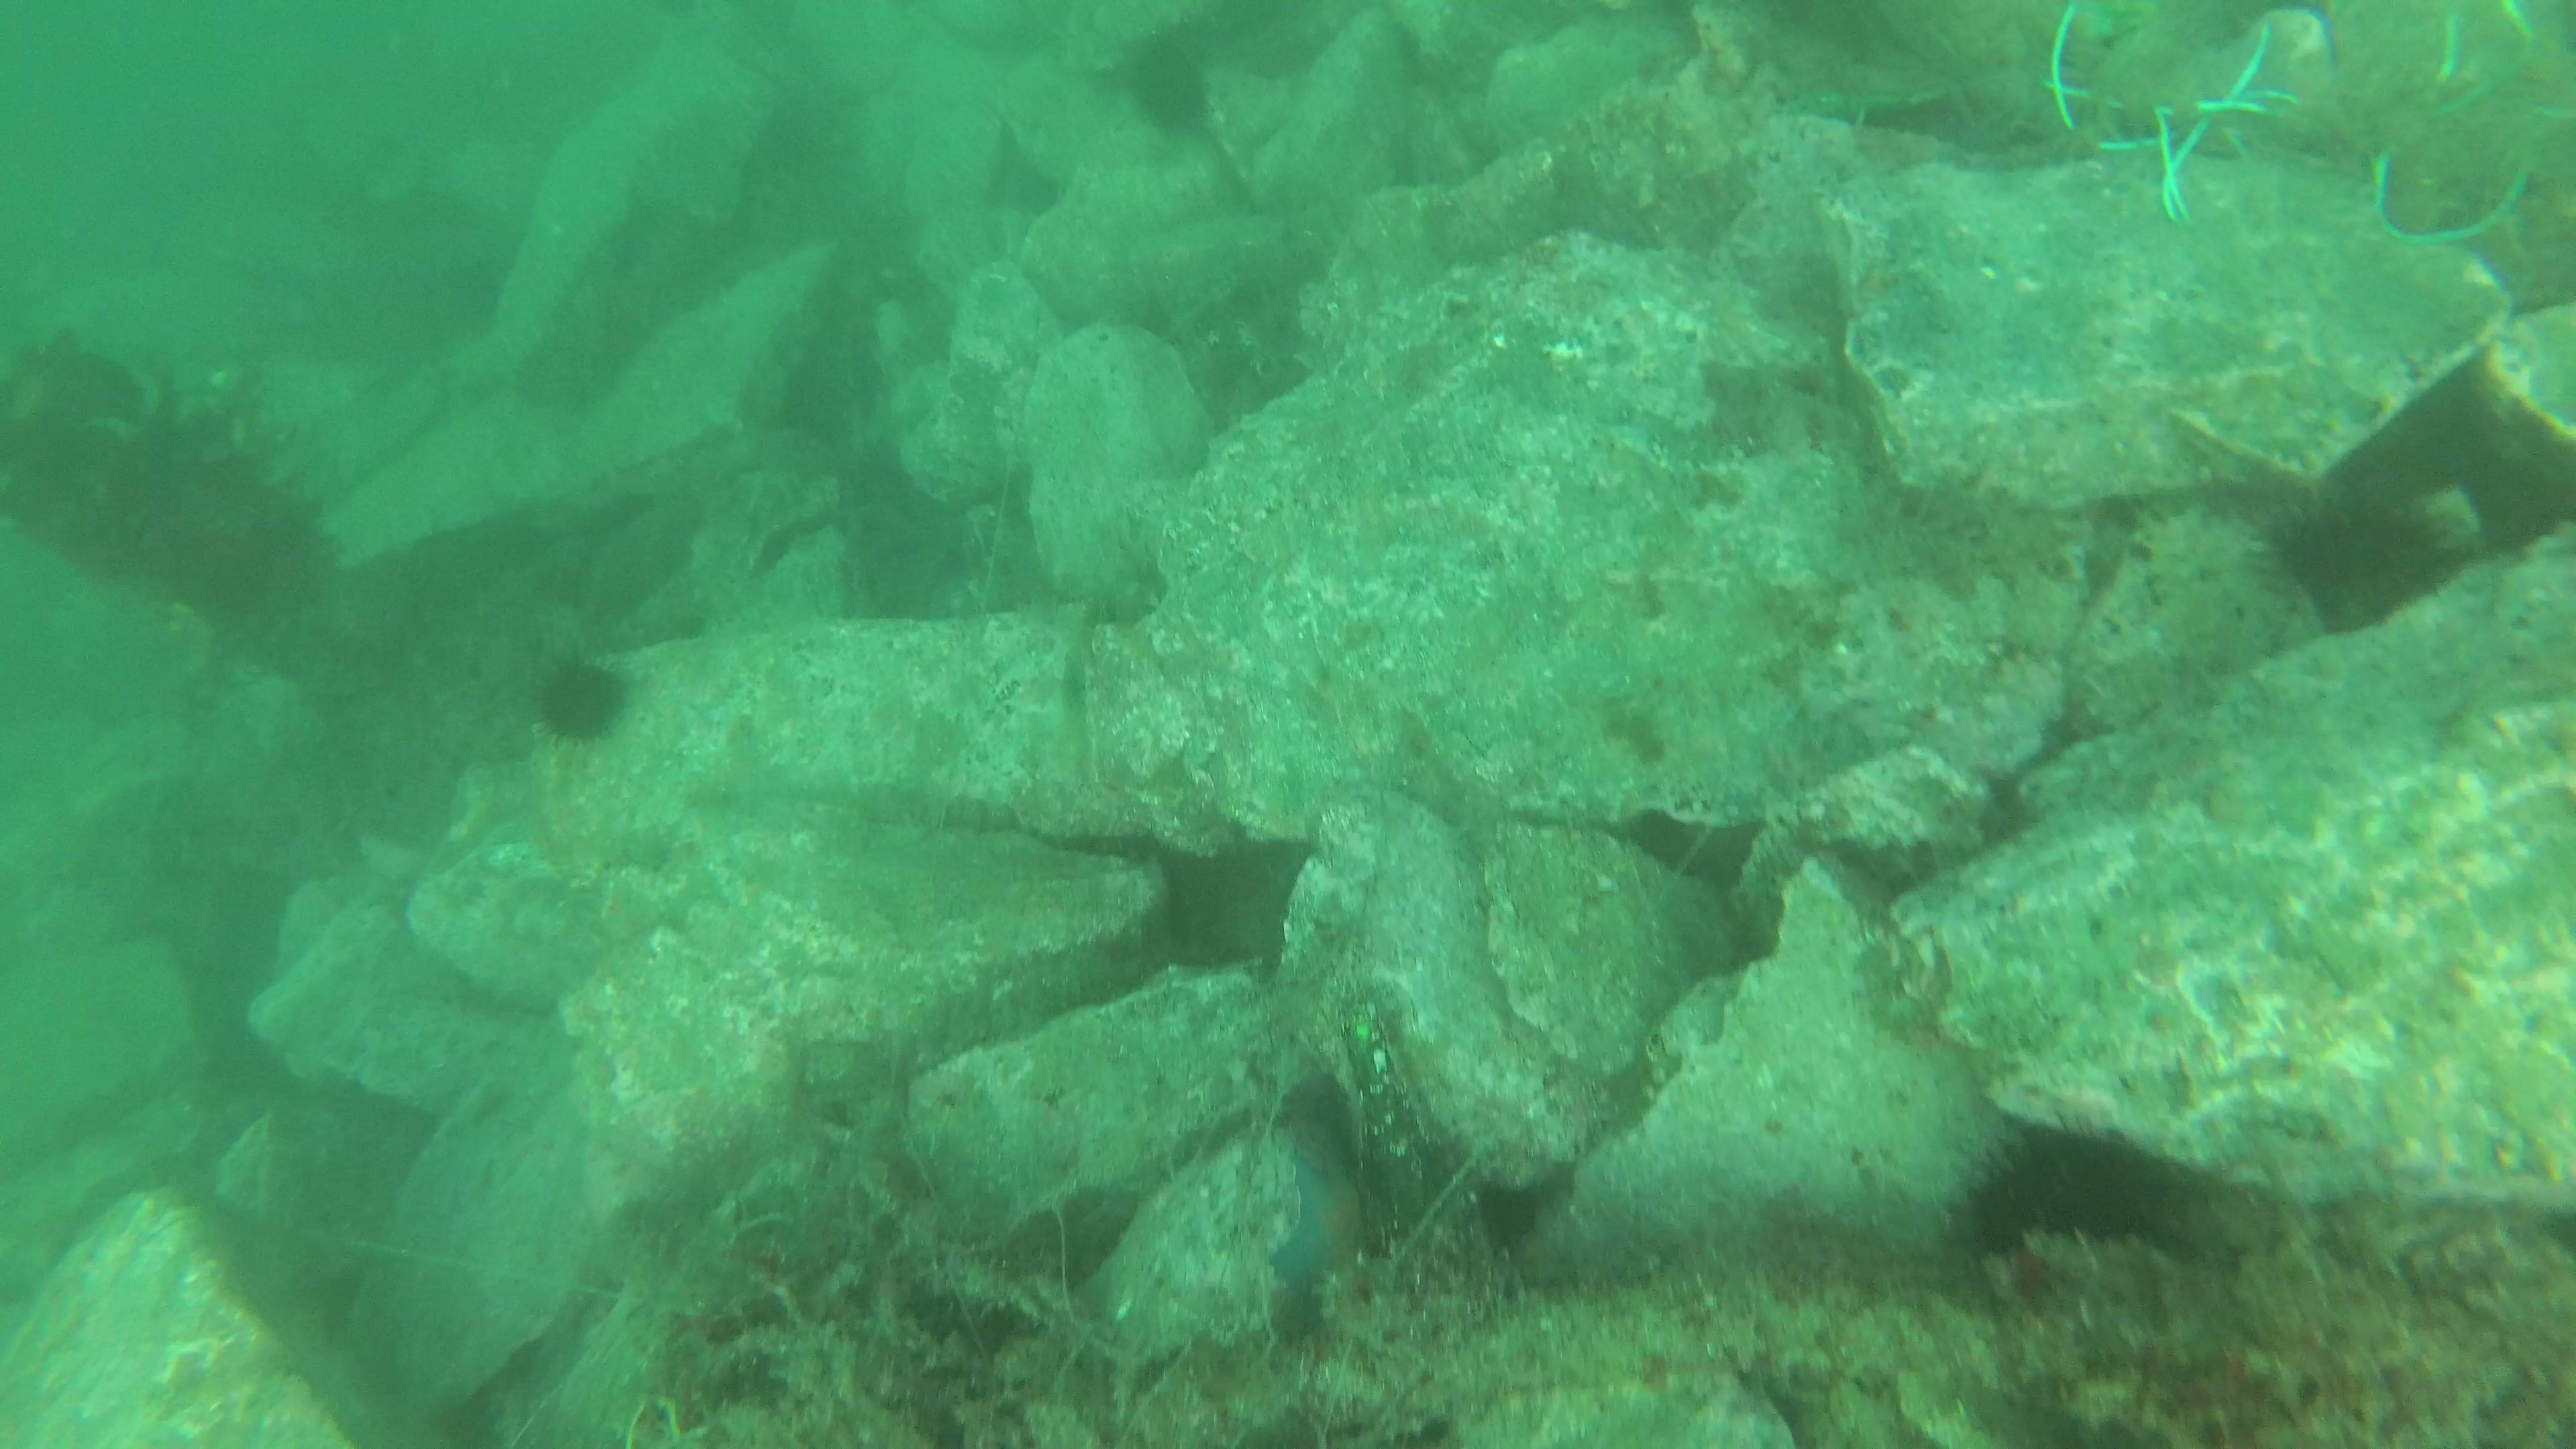echinus: (2263, 481, 2452, 637), (1966, 1122, 2160, 1244), (533, 662, 626, 750), (1100, 48, 1200, 127)
starfish: (1279, 1141, 1375, 1323)
